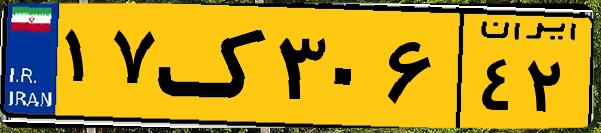0: (330, 28, 385, 110)
1: (57, 26, 110, 100)
2: (525, 38, 570, 115)
3: (270, 28, 330, 110)
4: (475, 38, 525, 113)
6: (385, 28, 445, 110)
7: (110, 28, 158, 98)
ک: (158, 12, 270, 120)
